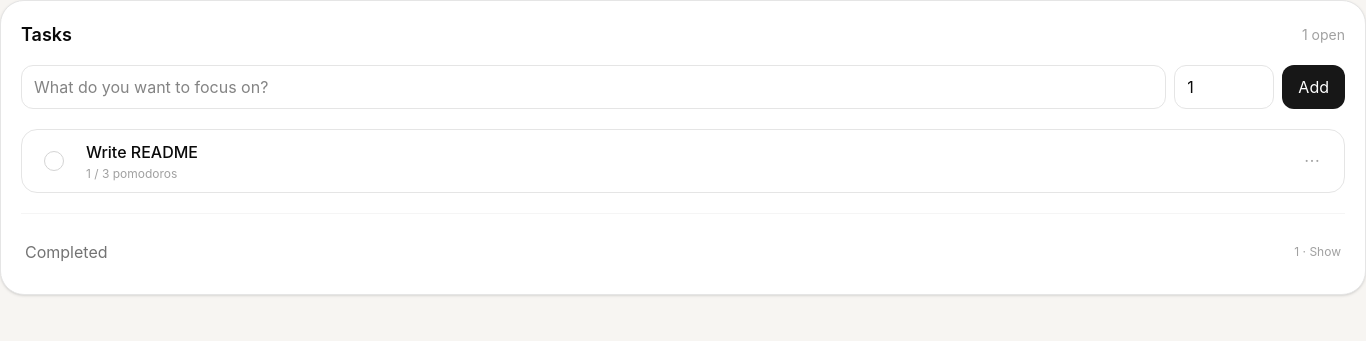
Scenario: TaskList Phase 2 workflow › only exposes one visible action per row until the menu is opened
Expected: the button "✓" is shown, x1=34 y1=141 x2=74 y2=181
Expected: the menu item "Edit" is not shown
Click the button named "More actions for" at point(1312, 161), box x1=1292 y1=141 x2=1332 y2=181
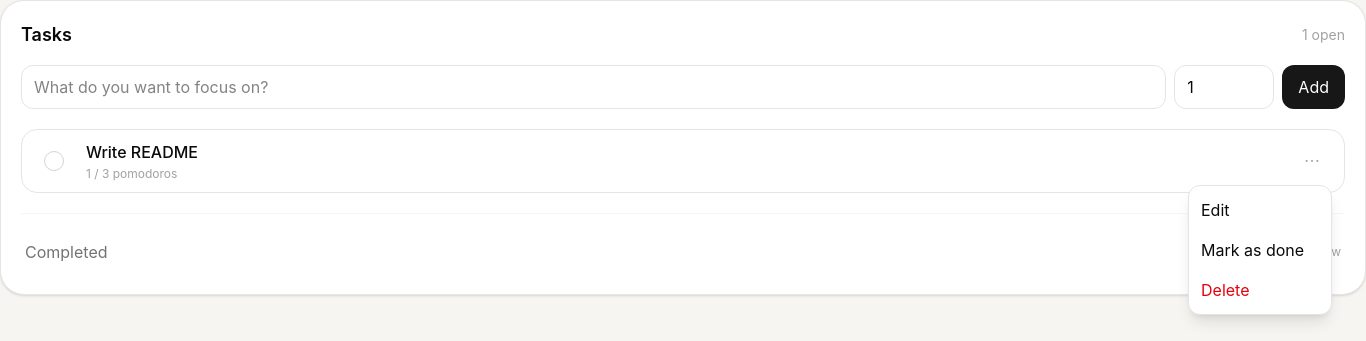
Now the menu item "Edit" is shown, box x1=1189 y1=190 x2=1331 y2=230
Now the menu item "Mark as done" is shown, box x1=1189 y1=230 x2=1331 y2=270
